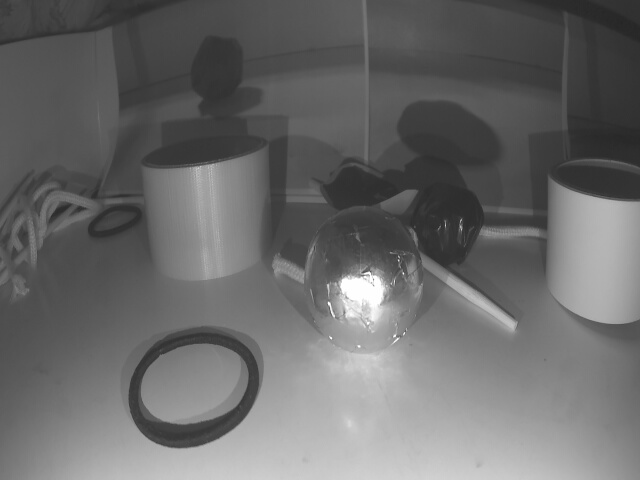Dead: (406, 185, 486, 263)
Live: (301, 207, 424, 352)
